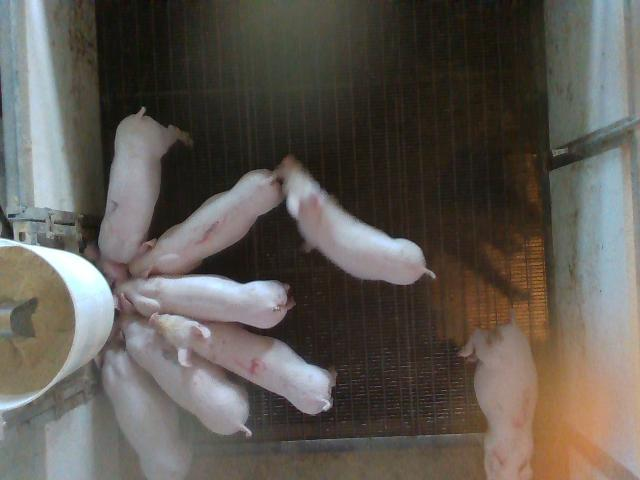pig-1: (129, 169, 284, 278)
pig-3: (460, 320, 538, 478)
pig-4: (150, 314, 334, 414)
